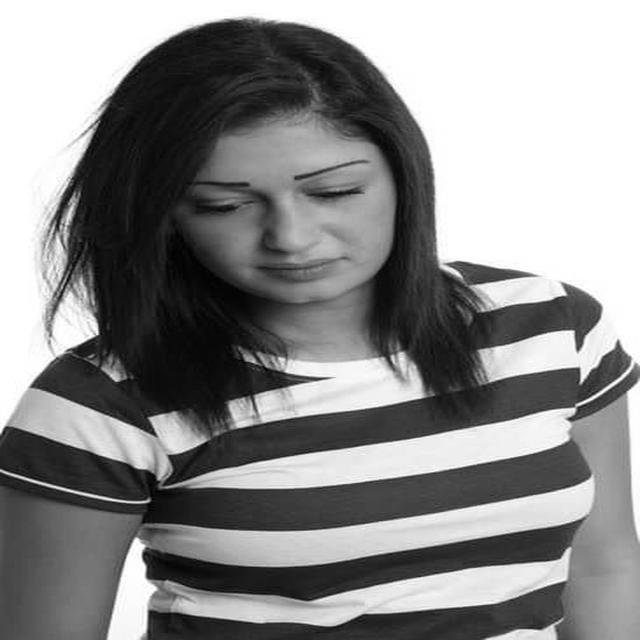Sadness: (182, 127, 384, 303)
